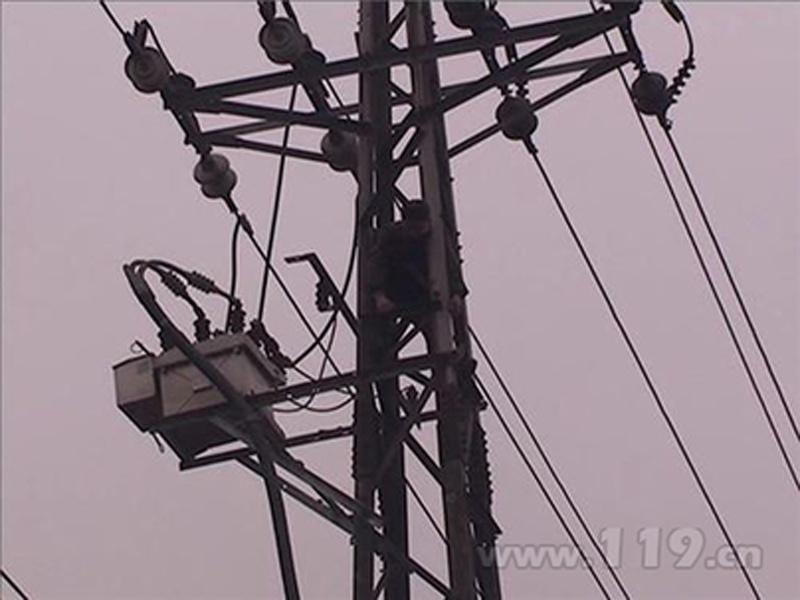power_tower: (183, 26, 616, 594)
